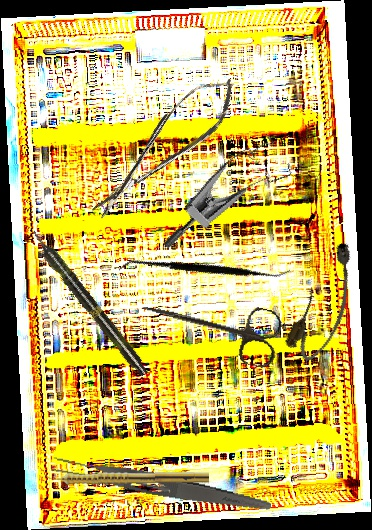Cannula: (281, 237, 372, 367)
Dressing Forceps: (49, 452, 274, 516)
Handpiece: (26, 226, 152, 379), (43, 468, 210, 486)
Iris Scissors: (135, 281, 285, 371)
Micro Scissor: (77, 66, 249, 228)
Spatula Surgical: (117, 196, 292, 344)
Speculum: (161, 117, 303, 283)
